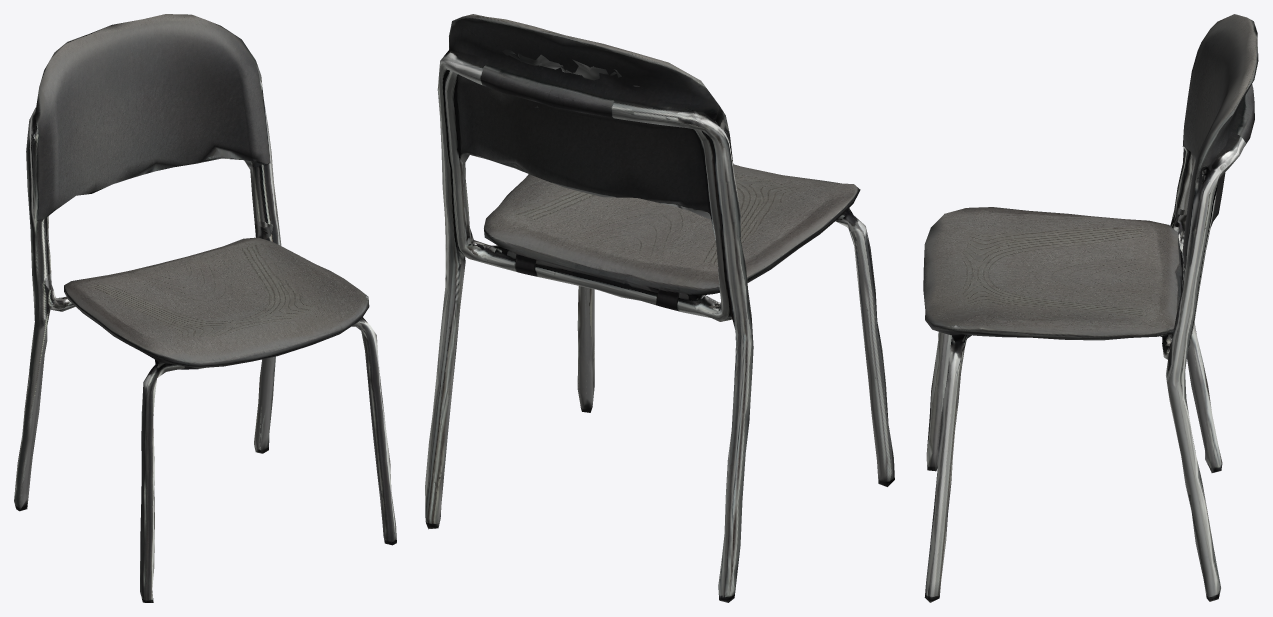
Rendered from Chair_Original.glb.
3 renders of one model, left to right at view 1: azimuth 30°, elevation 25°; view 2: azimuth 150°, elevation 25°; view 3: azimuth 270°, elevation 25°, orthographic. The views are drawn at different scales.
Parts seen in each view (by area): view 1: texture_mapping; view 2: texture_mapping; view 3: texture_mapping.
Part boxes in pixels (x1,y1,x2,y2): texture_mapping: (14,14,396,602); texture_mapping: (425,14,894,602); texture_mapping: (923,14,1258,602).
Bounding box in the file's own units: 0.603 × 1 × 0.6235.
Materials: 1 (1 with a texture image).
